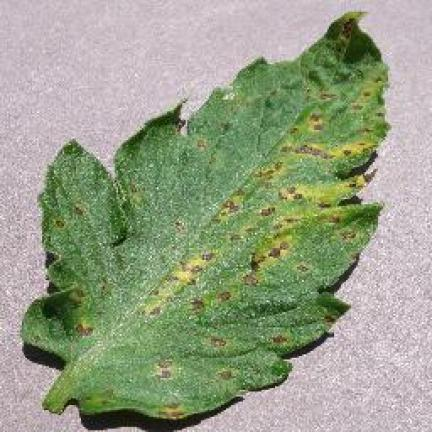disease: (22, 12, 386, 417)
leaf: (218, 290, 231, 302), (157, 370, 170, 378)
